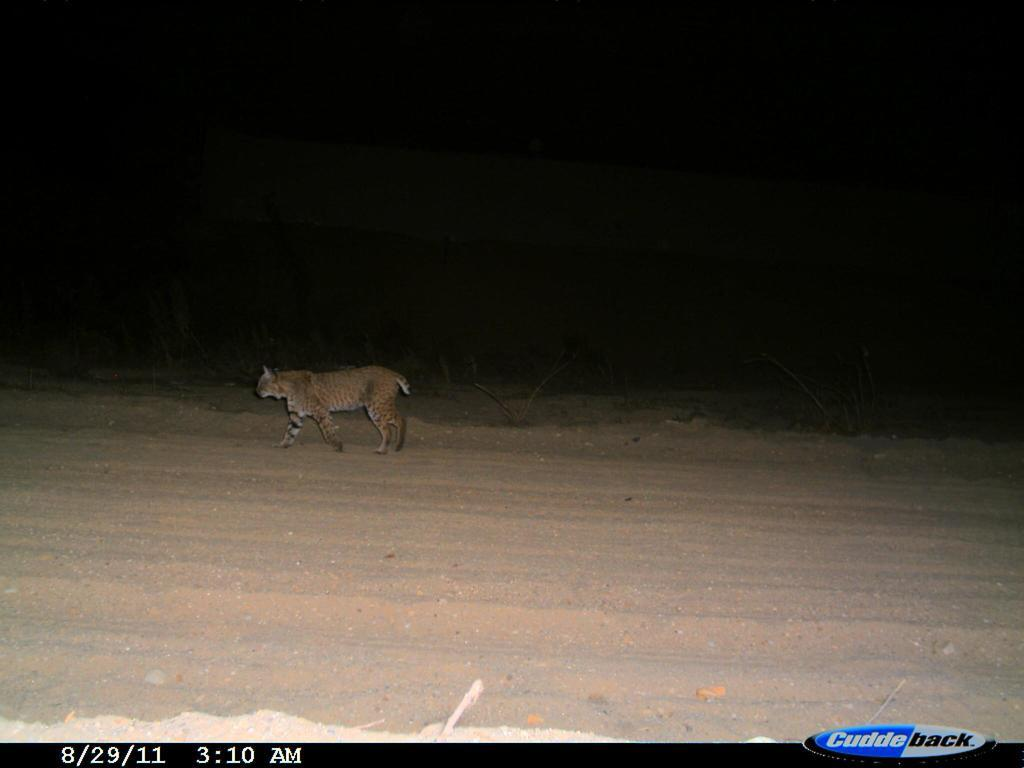bobcat: (233, 346, 428, 465)
